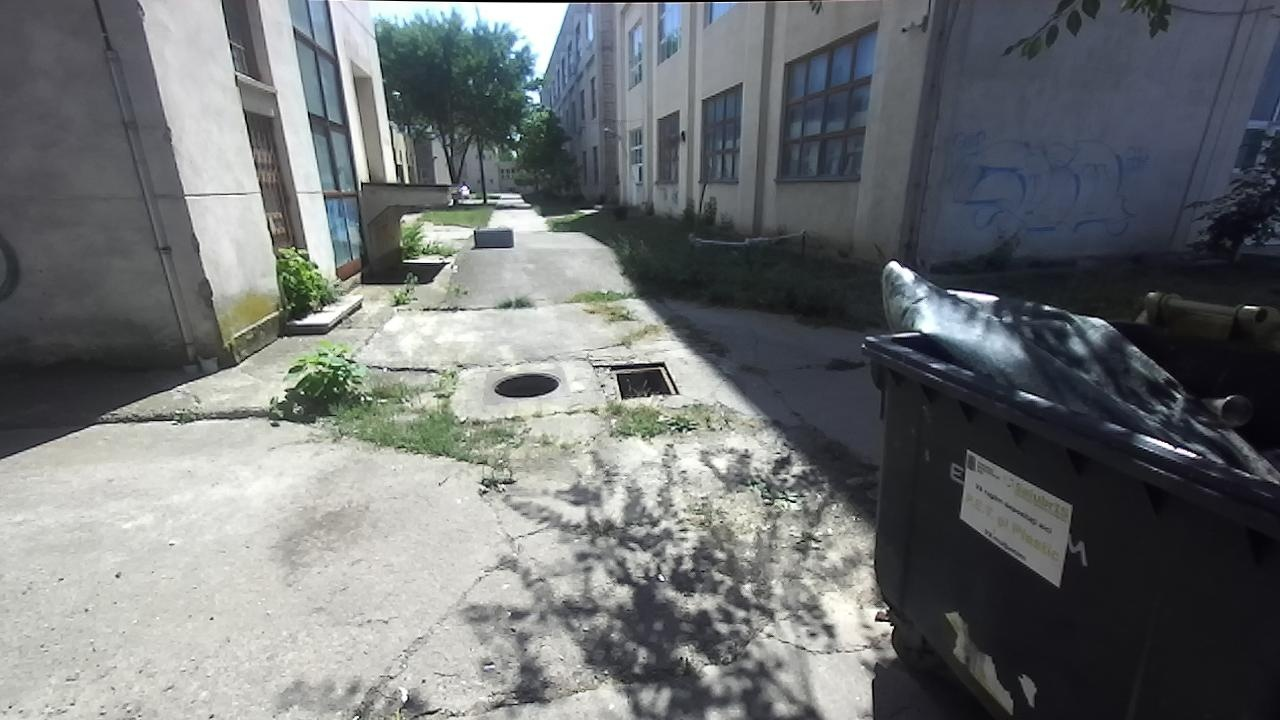drain: (610, 361, 686, 403), (486, 364, 565, 400)
